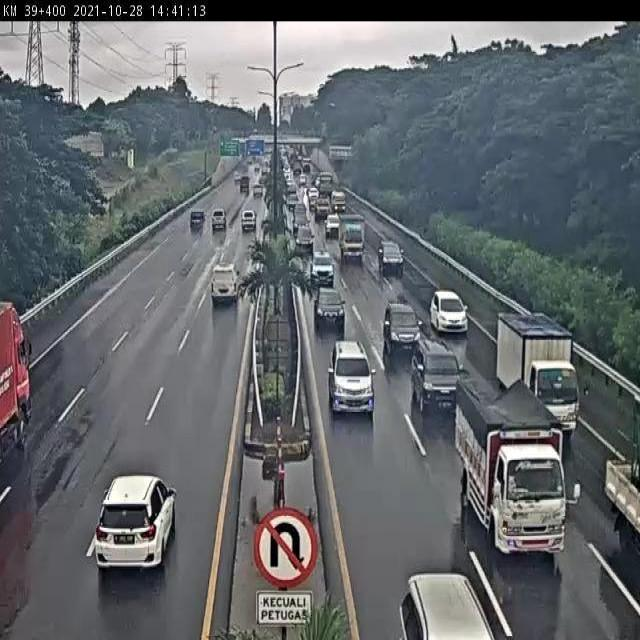car: (131, 361, 231, 447), (326, 339, 375, 417), (411, 339, 462, 413), (382, 300, 422, 357), (210, 247, 247, 297), (313, 288, 347, 333), (431, 290, 469, 330), (310, 246, 336, 286), (378, 240, 404, 275), (238, 205, 257, 227), (215, 197, 230, 223), (197, 197, 211, 220)
truck-m-: (454, 379, 564, 561), (339, 215, 365, 264)
truck-s-: (497, 311, 579, 438)
